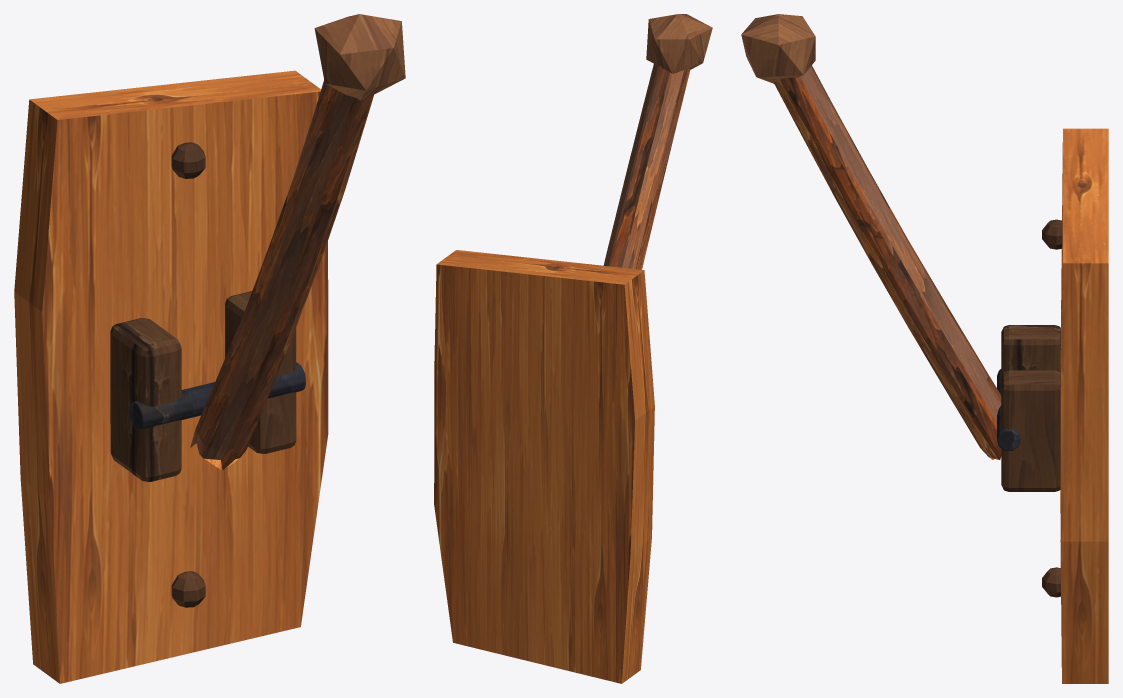
The model's file is lever.glb.
The picture shows the model from 3 angles, left to right: view 1: azimuth 30°, elevation 25°; view 2: azimuth 150°, elevation 25°; view 3: azimuth 270°, elevation 25°; orthographic projection. The views are drawn at different scales.
Visible parts, largest first — view 1: base, handle; view 2: base, handle; view 3: base, handle.
Part boxes in pixels (left/top/right/bottom): base: left=14, top=70, right=328, bottom=683; handle: left=190, top=14, right=405, bottom=470; base: left=434, top=250, right=654, bottom=683; handle: left=603, top=14, right=712, bottom=269; base: left=997, top=128, right=1108, bottom=683; handle: left=741, top=14, right=1001, bottom=459.
Size of the model in its own units: 0.3472 by 0.8971 by 0.4788.
7 materials, 7 textured.
